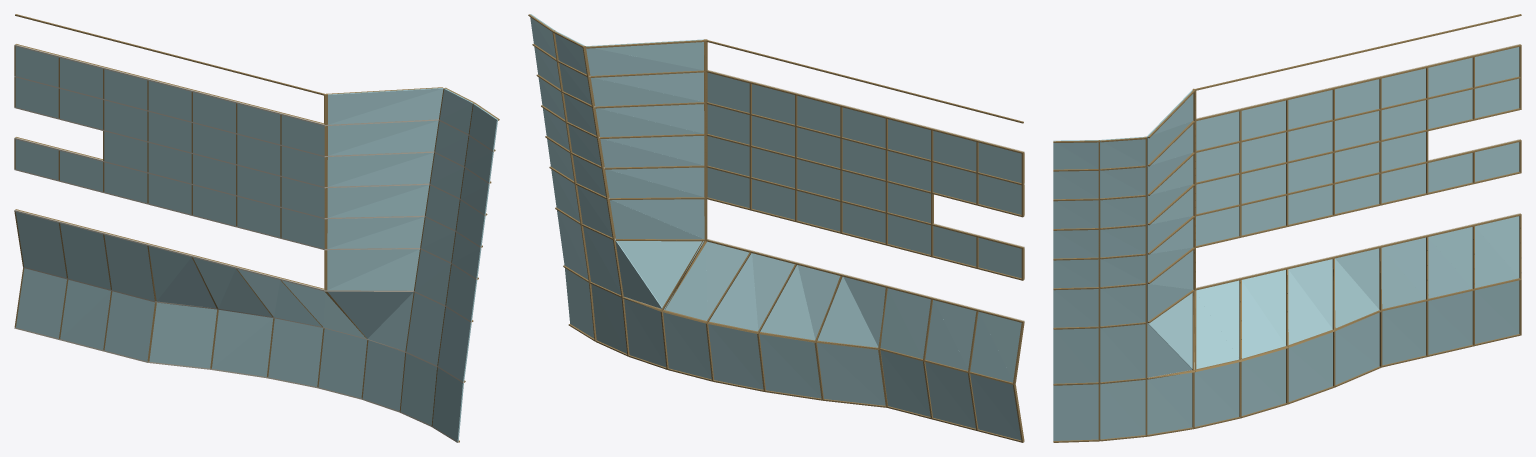
The model's file is G7_Completion_R005_Body_-1_08.glb.
The picture shows the model from 3 angles, left to right: view 1: azimuth 30°, elevation 25°; view 2: azimuth 210°, elevation 25°; view 3: azimuth 270°, elevation 25°; orthographic projection. The views are drawn at different scales.
Parts seen in each view (by area): view 1: Body_-1_08_G7C3_glass_solid_skin, Body_-1_08_G7C3_shell_solid_skin, Body_-1_08_G7C3_metal_solid_skin, Body_-1_08_G7C3_metal_solid_frame; view 2: Body_-1_08_G7C3_glass_solid_skin, Body_-1_08_G7C3_metal_solid_frame, Body_-1_08_G7C3_metal_solid_skin, Body_-1_08_G7C3_shell_solid_skin; view 3: Body_-1_08_G7C3_glass_solid_skin, Body_-1_08_G7C3_metal_solid_frame, Body_-1_08_G7C3_shell_solid_skin.
Part boxes in pixels (x1,y1,x2,y2): Body_-1_08_G7C3_glass_solid_skin: [15, 46, 497, 441]; Body_-1_08_G7C3_shell_solid_skin: [14, 44, 493, 442]; Body_-1_08_G7C3_metal_solid_skin: [14, 46, 474, 425]; Body_-1_08_G7C3_metal_solid_frame: [15, 14, 499, 442]; Body_-1_08_G7C3_glass_solid_skin: [530, 14, 1021, 440]; Body_-1_08_G7C3_metal_solid_frame: [528, 14, 1023, 442]; Body_-1_08_G7C3_metal_solid_skin: [554, 30, 1024, 440]; Body_-1_08_G7C3_shell_solid_skin: [589, 70, 1024, 441]; Body_-1_08_G7C3_glass_solid_skin: [1053, 47, 1519, 440]; Body_-1_08_G7C3_metal_solid_frame: [1053, 14, 1521, 442]; Body_-1_08_G7C3_shell_solid_skin: [1100, 44, 1520, 377].
Size of the model in its own units: 39.07 by 45.5 by 60.19.
Materials: 3 (2 with a texture image).
